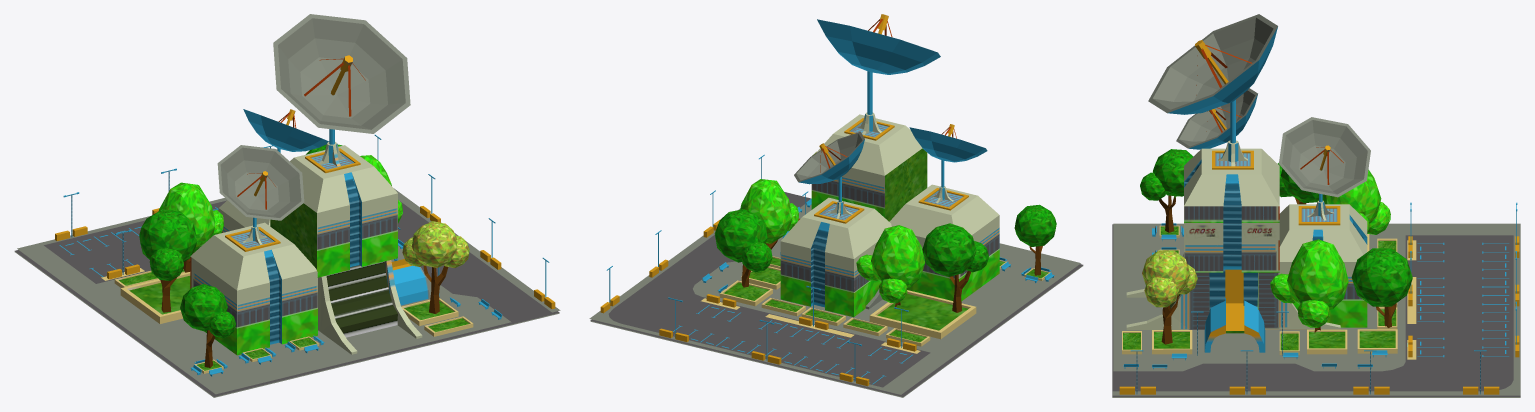
File: telecom_LV3.fbx
The picture shows the model from 3 angles, left to right: view 1: azimuth 30°, elevation 25°; view 2: azimuth 150°, elevation 25°; view 3: azimuth 270°, elevation 25°; orthographic projection. The views are drawn at different scales.
Visible parts, largest first — view 1: telecom level 3; view 2: telecom level 3; view 3: telecom level 3.
Boxes of the visible parts, bbox=[...] form: telecom level 3: bbox=[14, 14, 560, 397]; telecom level 3: bbox=[589, 14, 1083, 397]; telecom level 3: bbox=[1112, 14, 1520, 397].
Bounding box in the file's own units: 120 × 93.26 × 120.
